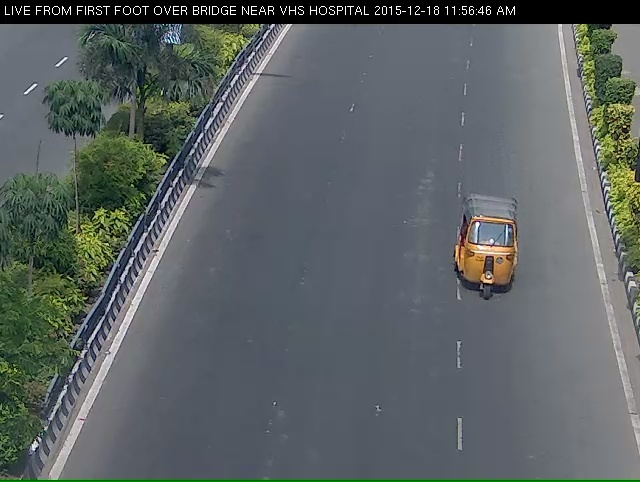Car: (443, 206, 531, 327)
